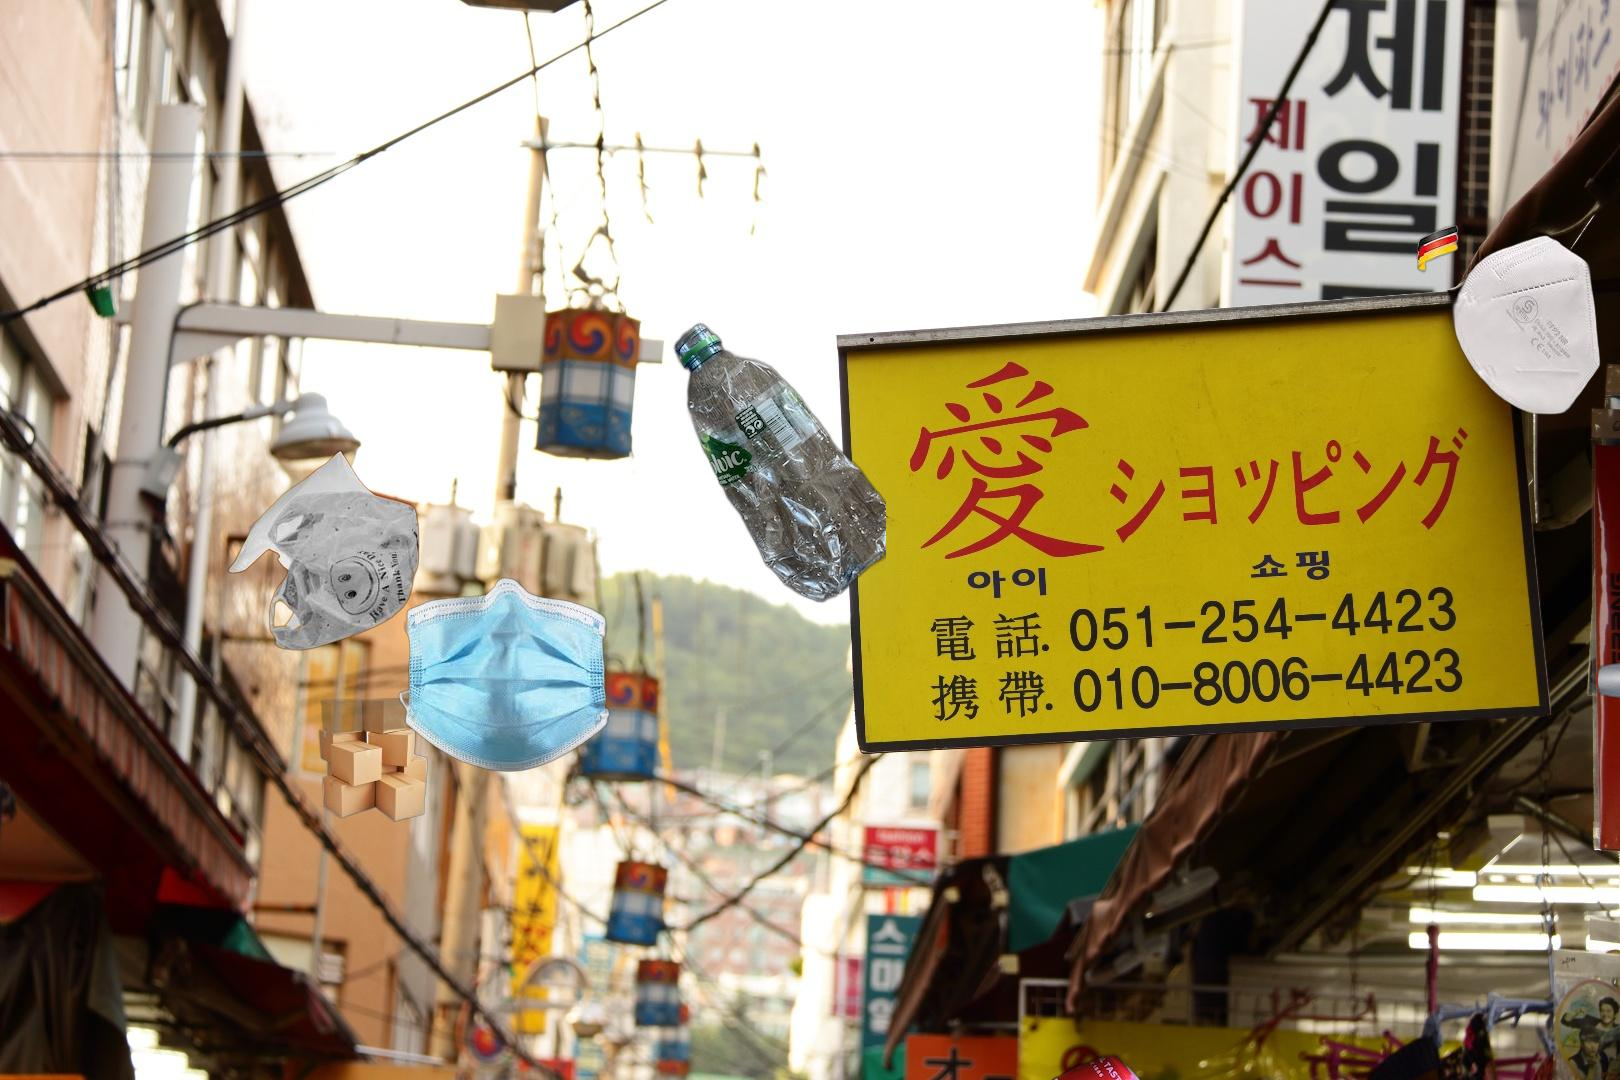metal-cans: (993, 1047, 1155, 1080)
penholder: (1499, 425, 1620, 925)
plastic-bag: (225, 448, 422, 651)
plastic-bottles: (671, 319, 886, 607)
trash: (397, 575, 612, 774), (1414, 222, 1603, 417)
trashbox-cardboard: (309, 698, 432, 823)
